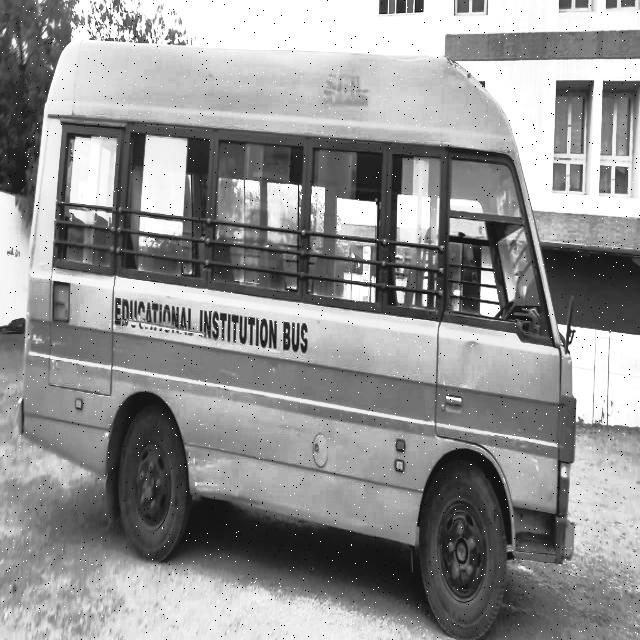Bus: (16, 24, 588, 631)
